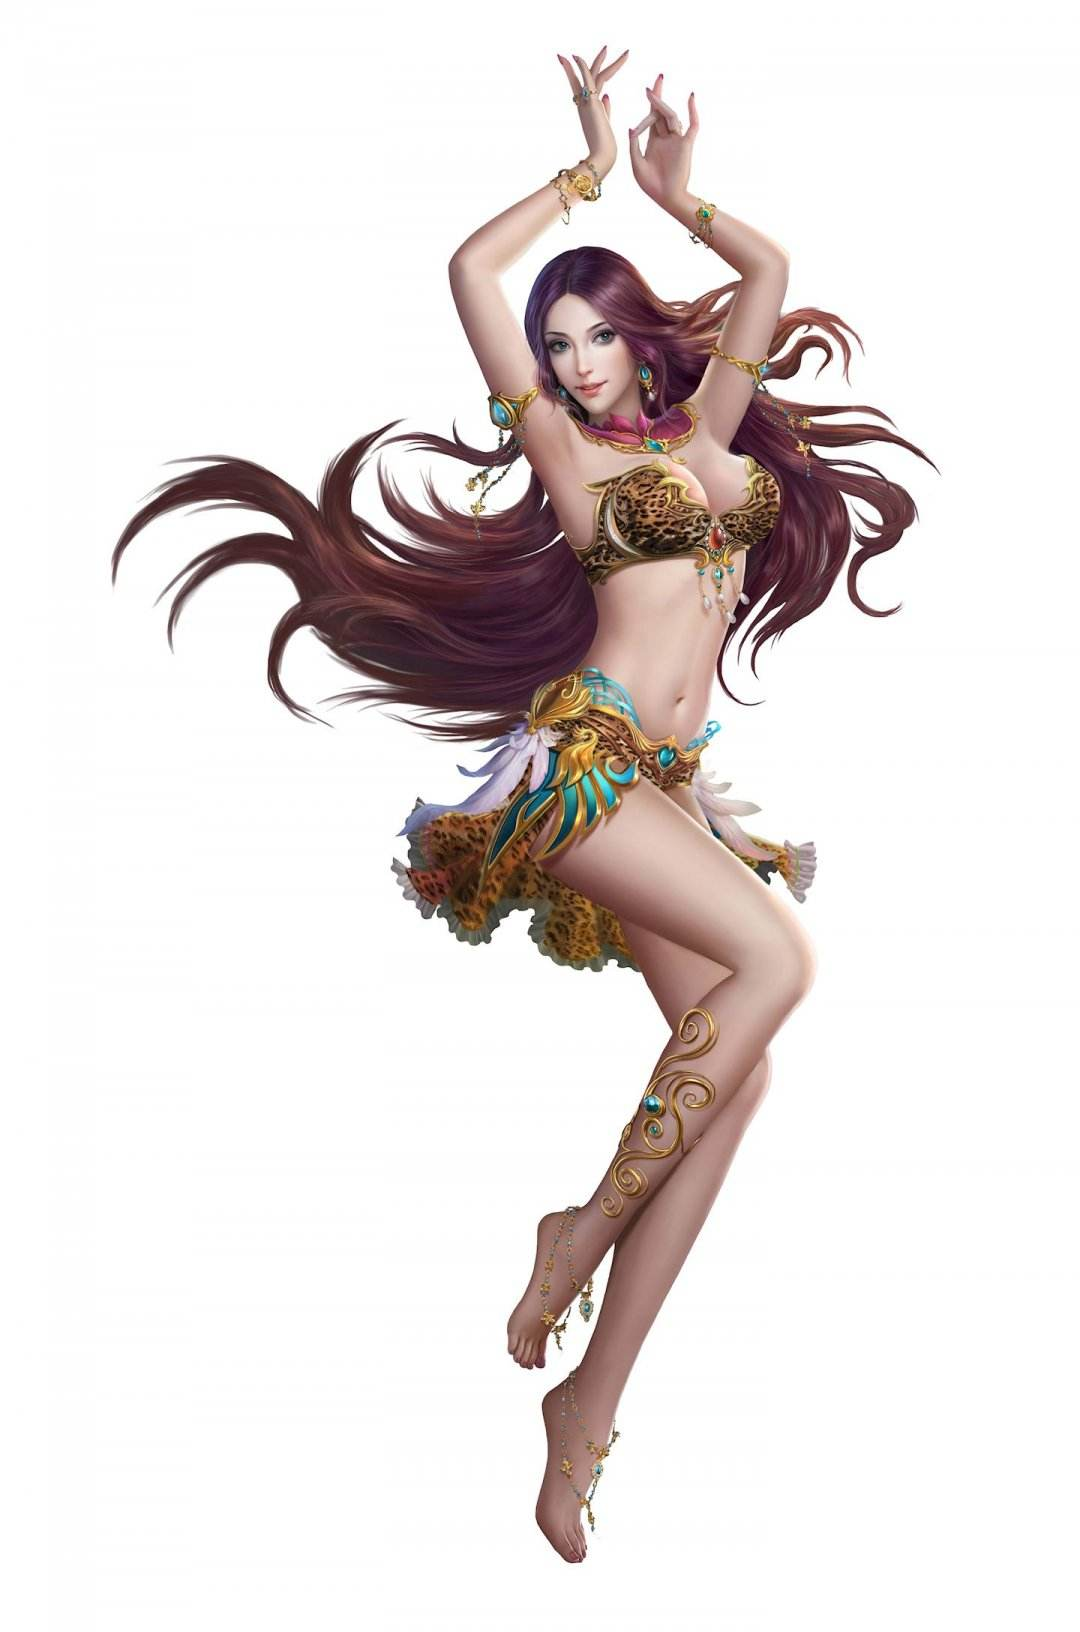person: (326, 108, 912, 1500)
